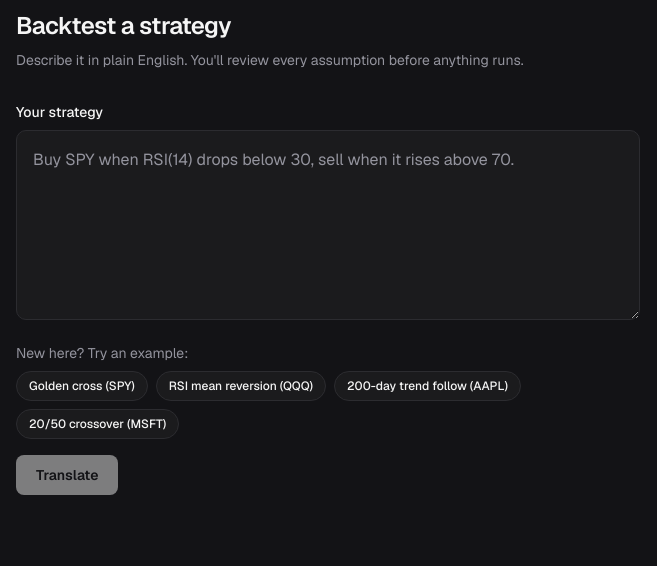
CONTRACT 5: gate integrity -- results view unreachable without an explicit confirm › an unsupported translation never shows assumptions, a confirm gate, or a result
The width and height of the screenshot is (657, 566).
Replace the text in the text box with test id "nl-input" with "buy SPY call options": x=328, y=225 x1=16 y1=130 x2=640 y2=320
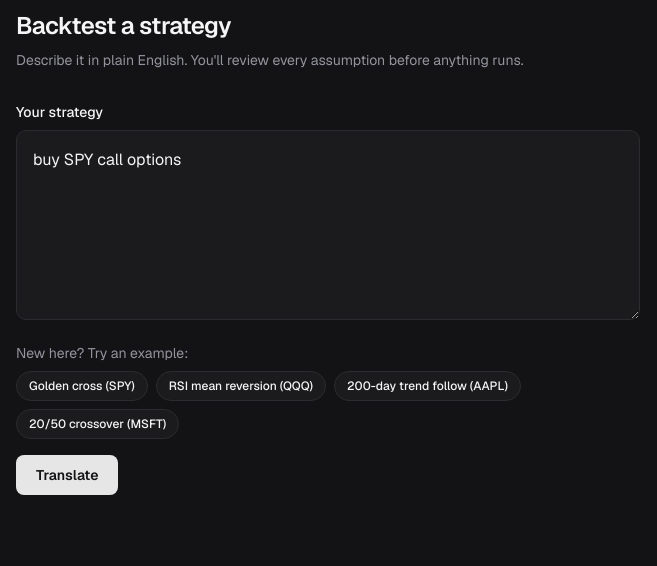
Click the button with test id "translate-submit": x=67, y=475 x1=16 y1=455 x2=118 y2=495
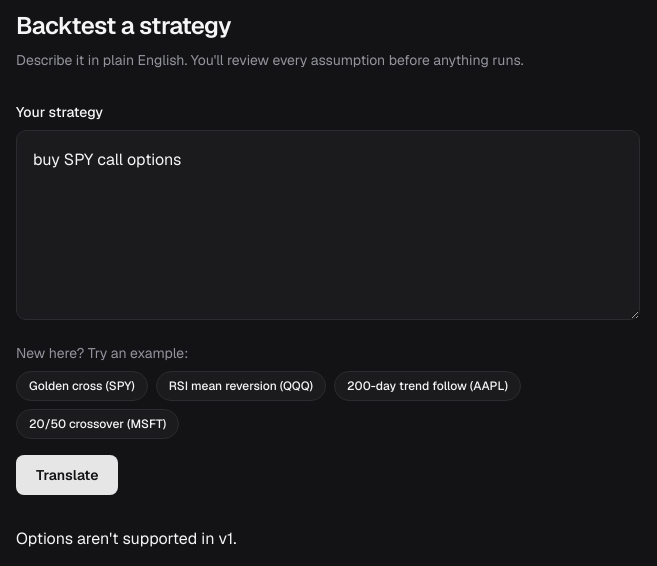
Expected: the text "Options aren't supported in v1." is shown, x1=16 y1=528 x2=236 y2=549
